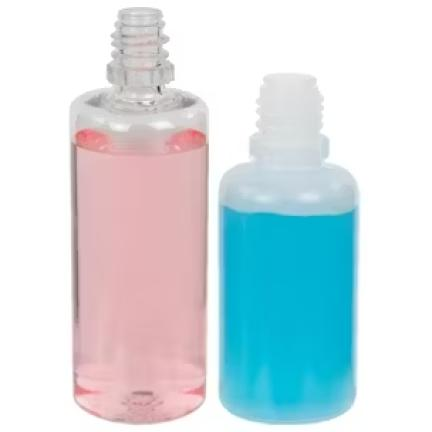container: (71, 104, 210, 422), (219, 163, 357, 422)
fluid: (73, 143, 210, 422), (220, 204, 360, 422)
fluid-surface: (72, 128, 208, 153), (222, 196, 360, 217)
